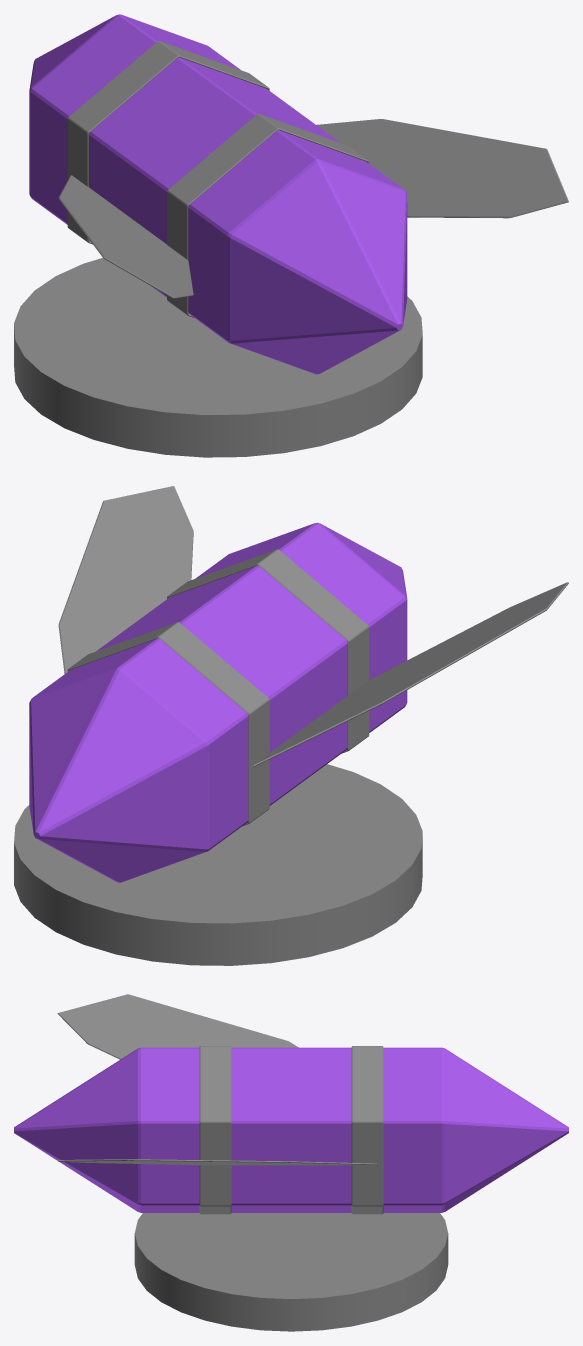
Rendered from Missile Launcher.glb.
3 renders of one model, top to bottom at view 1: azimuth 30°, elevation 25°; view 2: azimuth 150°, elevation 25°; view 3: azimuth 270°, elevation 25°, orthographic. The views are drawn at different scales.
Parts seen in each view (by area): view 1: Missle Head, Missle Base, Missle Head 001; view 2: Missle Head, Missle Base, Missle Head 001; view 3: Missle Head, Missle Base, Missle Head 001.
Boxes of the visible parts, x1=… form: Missle Head: x1=29, y1=14, x2=407, y2=374; Missle Base: x1=14, y1=258, x2=422, y2=457; Missle Head 001: x1=58, y1=41, x2=568, y2=317; Missle Head: x1=29, y1=522, x2=407, y2=882; Missle Base: x1=14, y1=764, x2=422, y2=965; Missle Head 001: x1=58, y1=486, x2=568, y2=826; Missle Head: x1=14, y1=1047, x2=568, y2=1212; Missle Base: x1=134, y1=1213, x2=448, y2=1331; Missle Head 001: x1=57, y1=994, x2=383, y2=1214.
Bounding box in the file's own units: 4.92 × 3.04 × 6.97.
